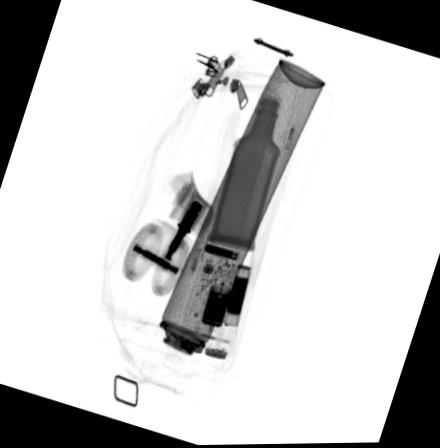Sprayer: (137, 57, 328, 398)
